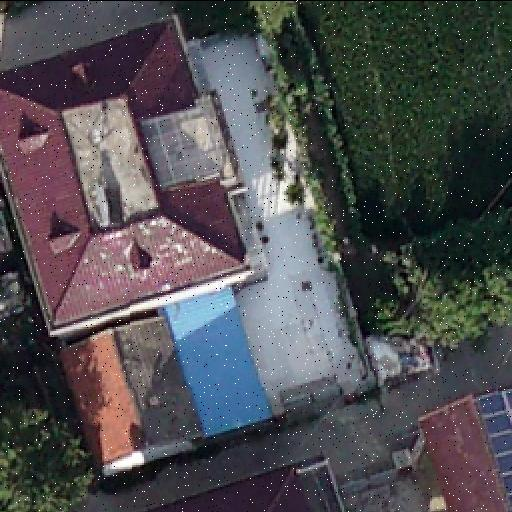solar-panel: (480, 392, 512, 504)
